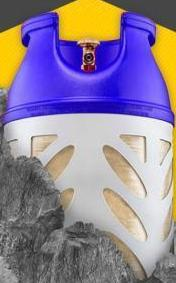cylinder: (1, 1, 176, 283)
